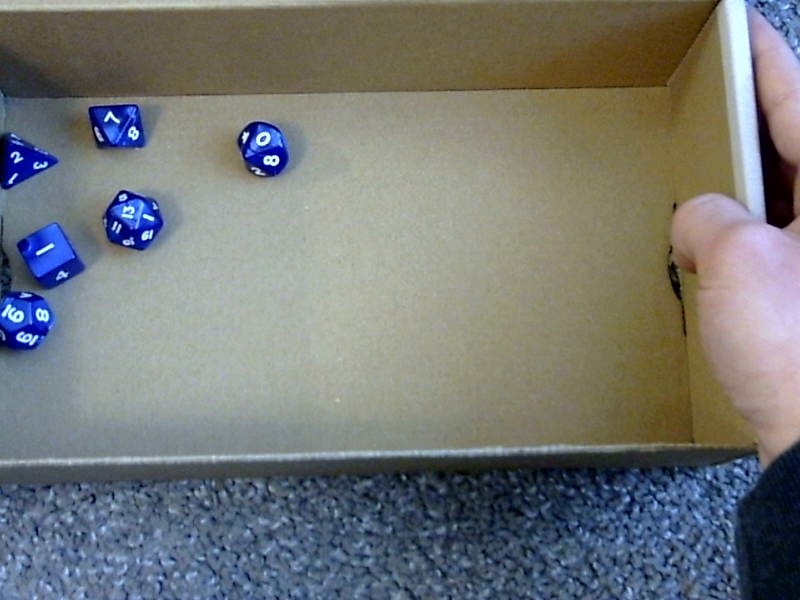d10 10: (229, 116, 293, 180)
d12 9: (0, 291, 56, 351)
d20 13: (99, 188, 164, 251)
d4 2: (2, 125, 58, 192)
d6 1: (16, 222, 87, 291)
d8 7: (86, 103, 149, 151)
